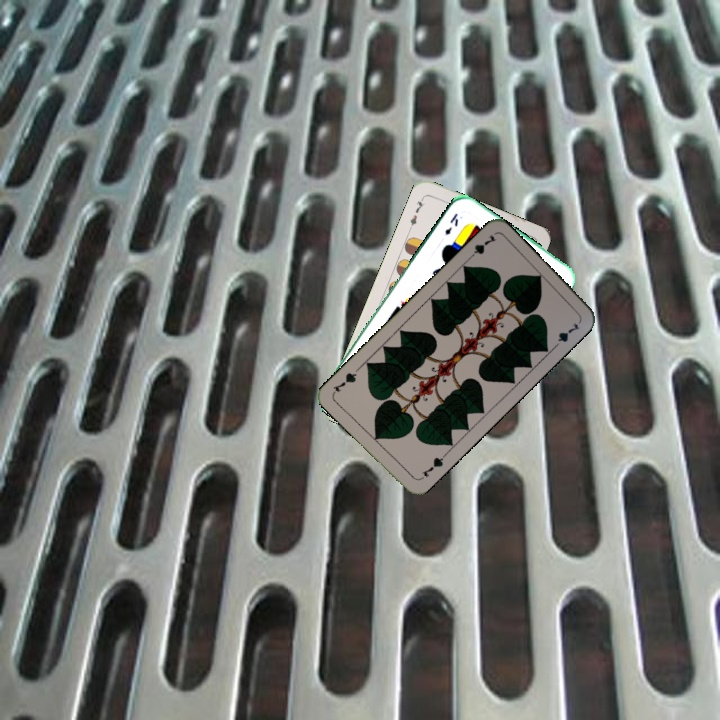E7: (405, 193, 426, 232)
EK: (440, 209, 461, 237)
G7: (464, 231, 499, 263), (416, 450, 448, 482)
